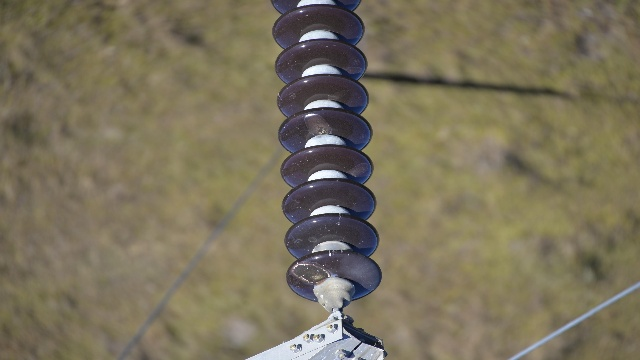insulator_unspecified: (271, 0, 381, 303)
pollution_flashover_local: (289, 260, 329, 287), (305, 111, 332, 135), (350, 162, 367, 179)
